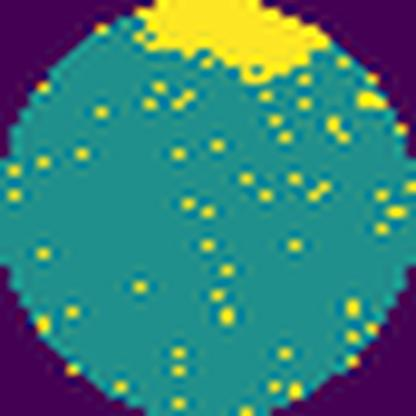Edge-Loc: (135, 0, 332, 85)
